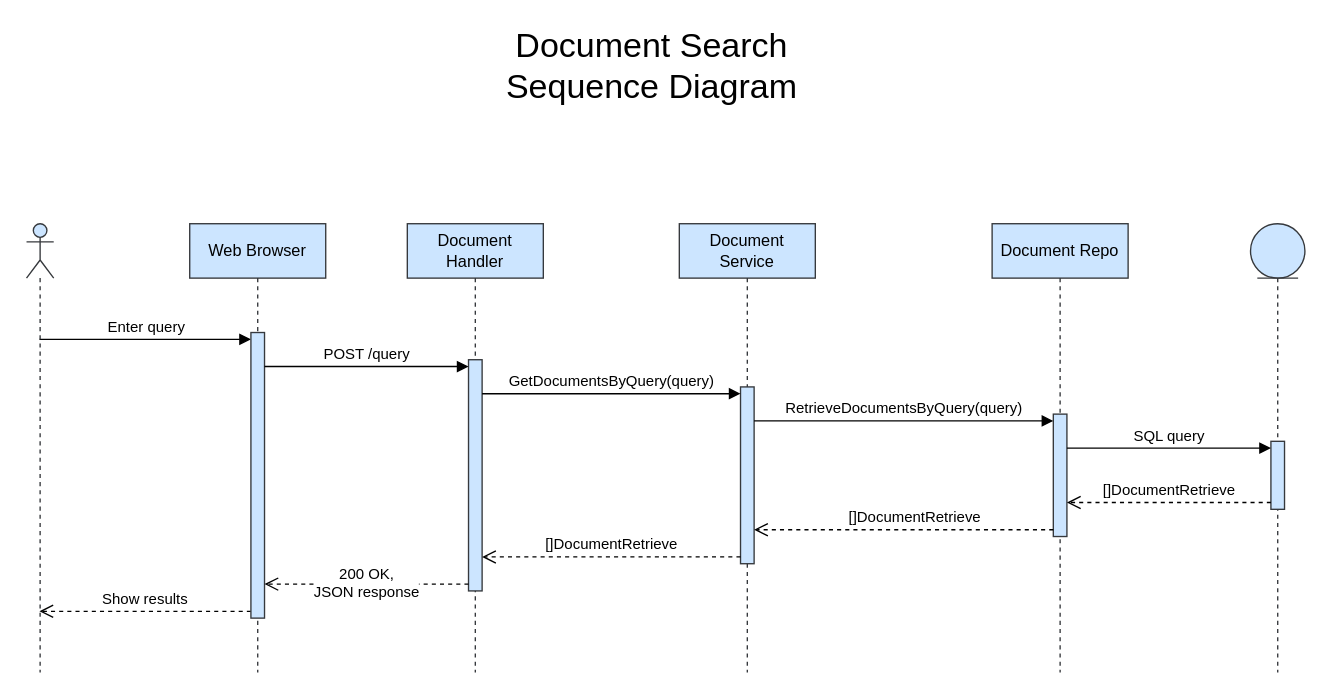
The diagram is 1336 pixels wide and 696 high, and some of its shapes have lost their labels. Here are the shapes that lost their labels. From the top down, the box of each, then its label:
(25, 222, 54, 673): User
(1249, 222, 1305, 673): Database
